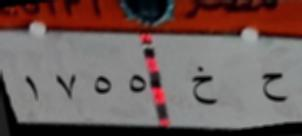1: (23, 71, 43, 109)
5: (92, 69, 116, 98), (125, 69, 148, 99)
7: (51, 68, 81, 105)
7aa: (254, 66, 295, 111)
khaa: (187, 63, 223, 114)
